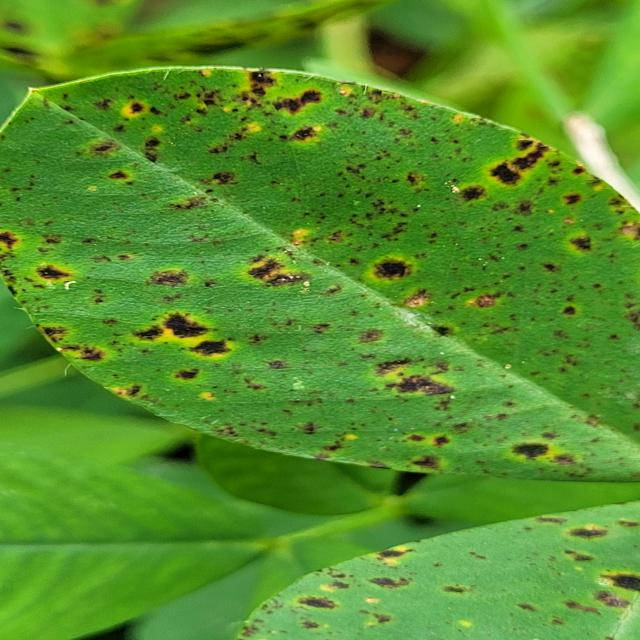Ground nut_tikka leaf spot: (0, 57, 640, 477)
